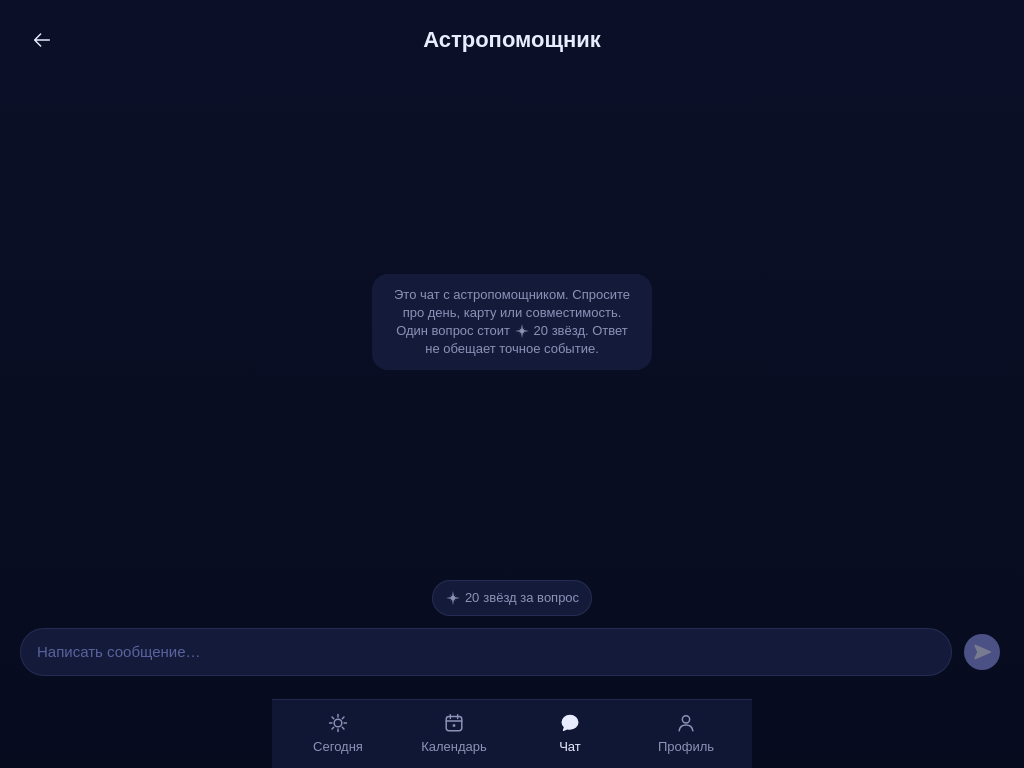
Test case: screens › drops the star balance as soon as a question is sent
The image size is (1024, 768).
In the field labelled "Написать сообщение…": (486, 652) [20, 628, 952, 676], type "Что вечером?"
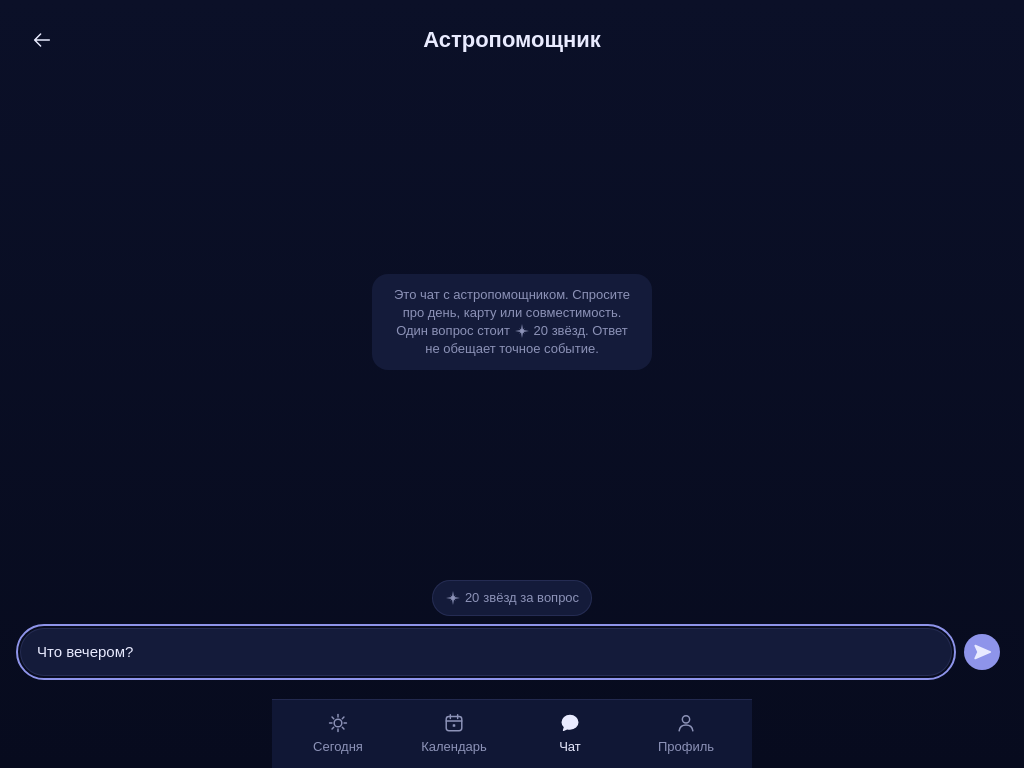
Click the button named "Отправить": (982, 652) [960, 630, 1004, 674]
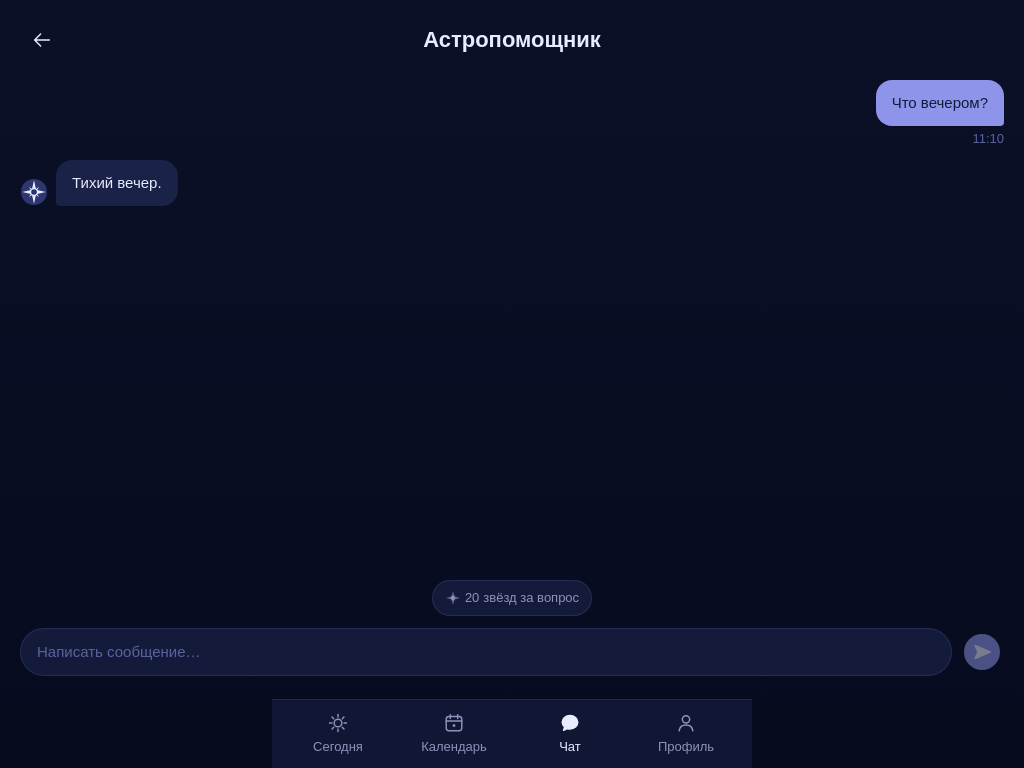
Now the text "Тихий вечер." is shown, box [56, 160, 178, 206]
